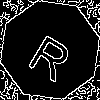R: (25, 25, 80, 83)
